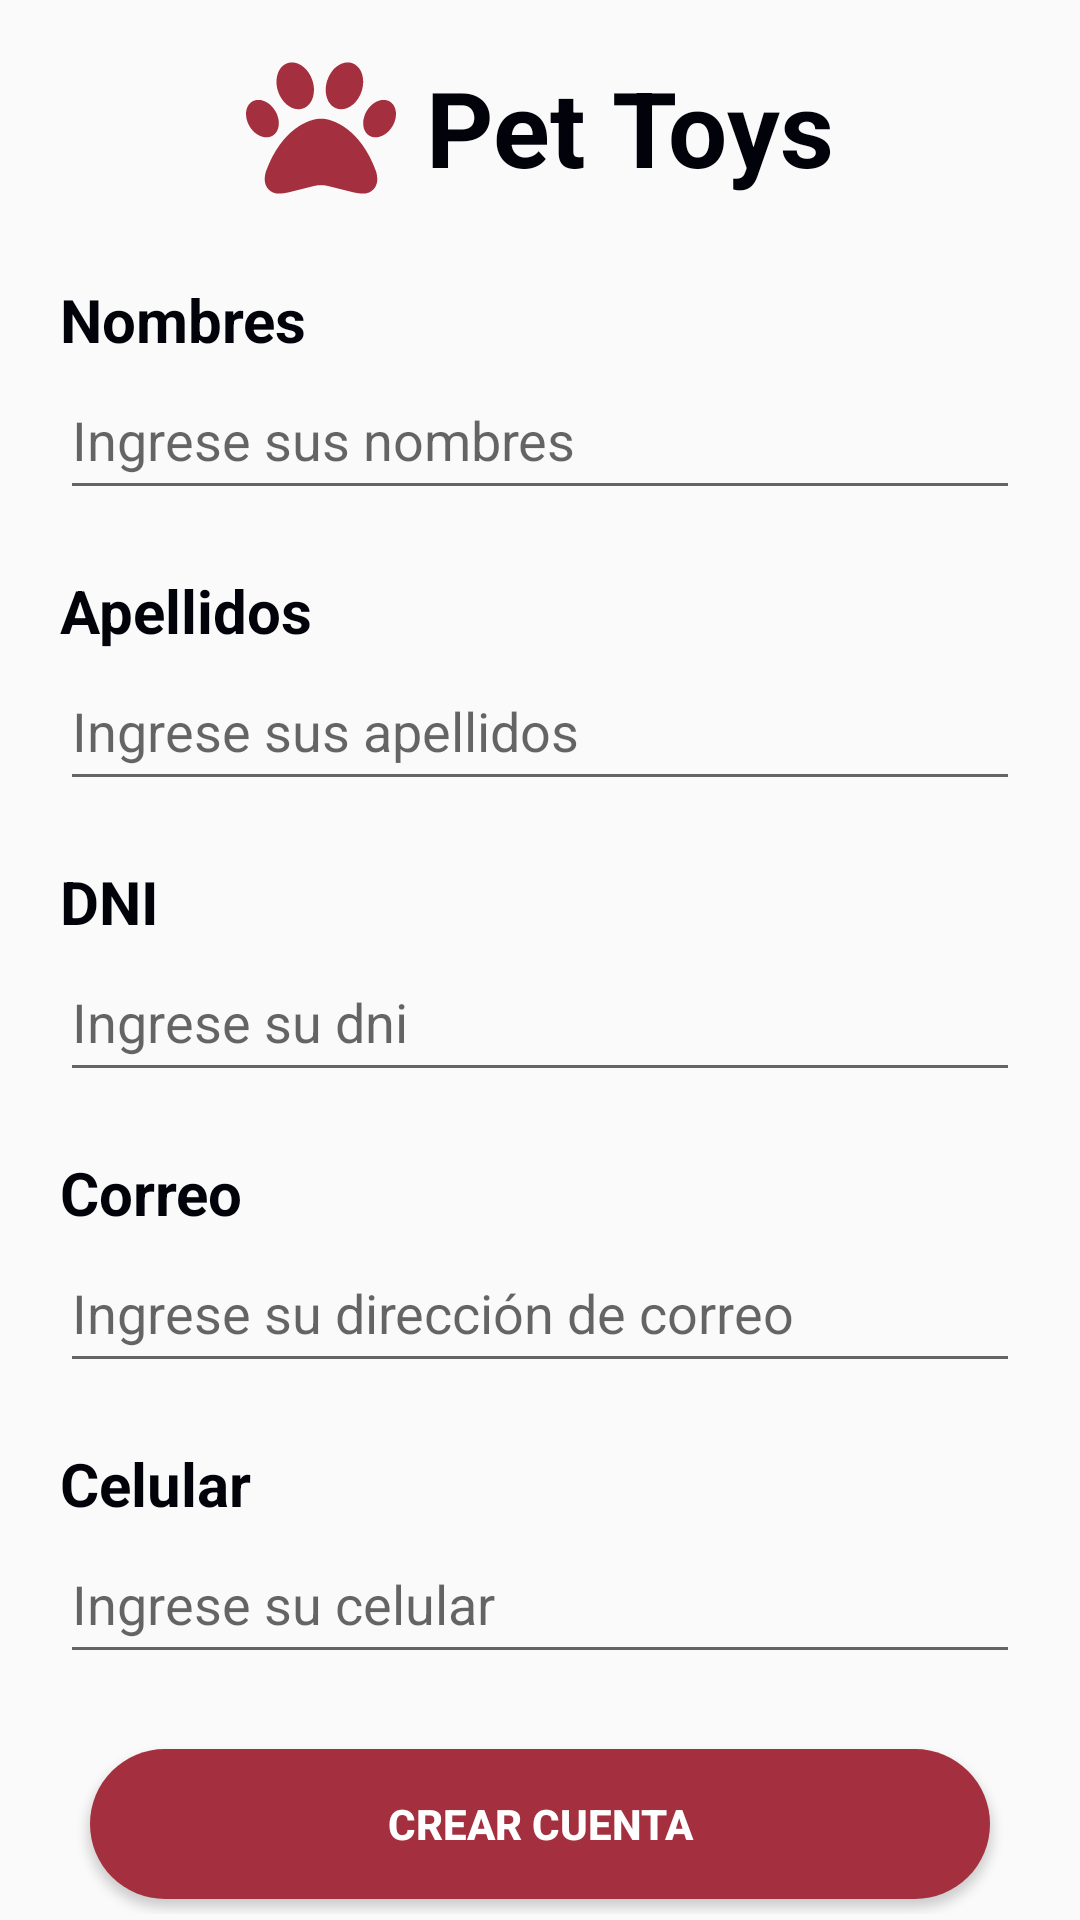

Where to tap for icons on this 1080*1920 app screen, as [x,y]:
paw: [321,128]
